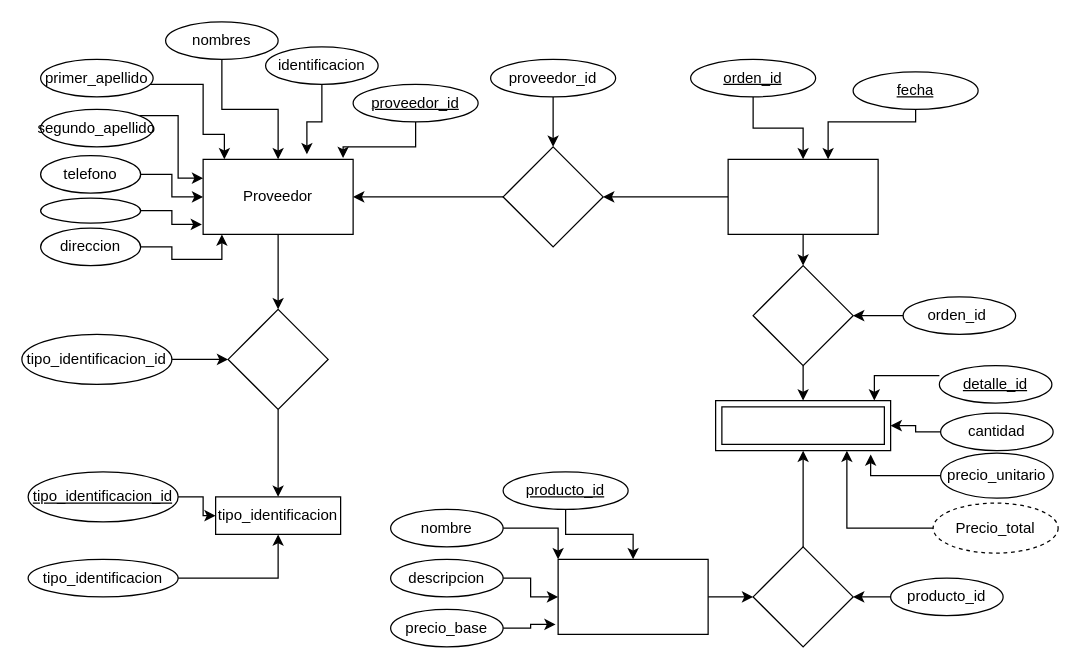
This 1080x669 diagram has some shape labels left out. The shapes that lost their labels are listed below. From the top down, each one's centre as x and y in pixels, then its label:
At point (90, 210): "email".
At point (552, 196): "hace".
At point (802, 196): "OrdenesCompra".
At point (802, 315): "genera".
At point (277, 358): "pertenece a".
At point (802, 425): "DetalleOrdenCompra".
At point (632, 596): "Producto".
At point (802, 596): "tiene".
